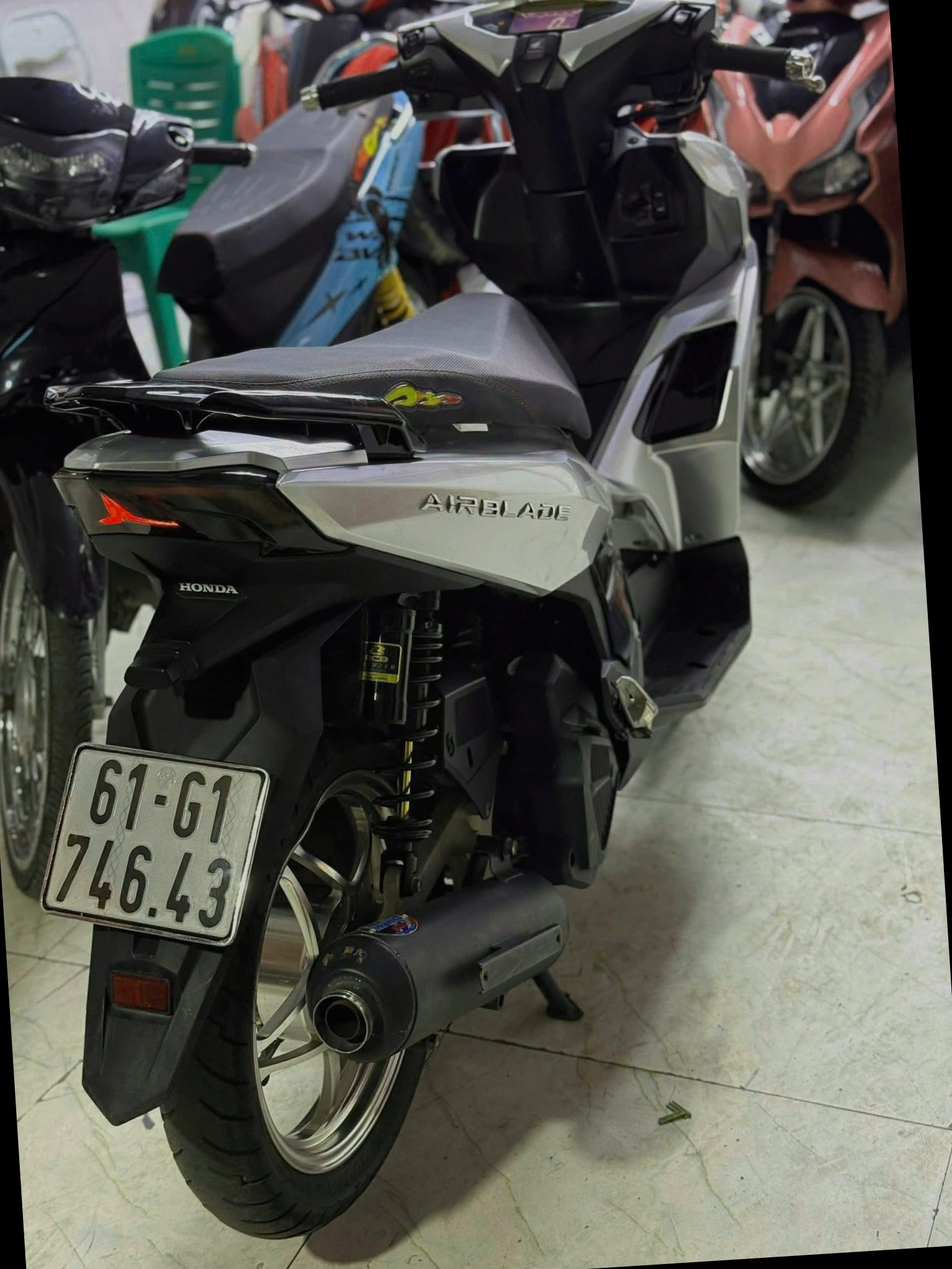Bien-so: (33, 719, 285, 951)
